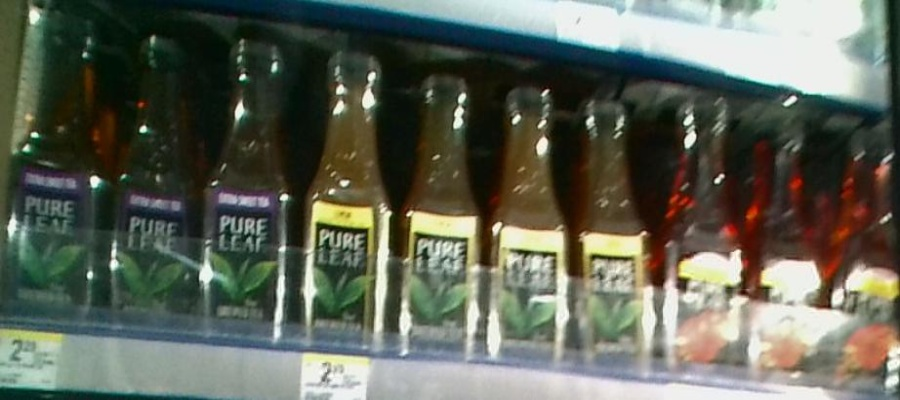bottle: (195, 20, 298, 339), (4, 8, 107, 317), (303, 45, 393, 350), (110, 15, 192, 328), (399, 60, 482, 360), (663, 89, 752, 364), (571, 92, 655, 376), (486, 76, 567, 368), (755, 117, 828, 376), (832, 126, 900, 378)
